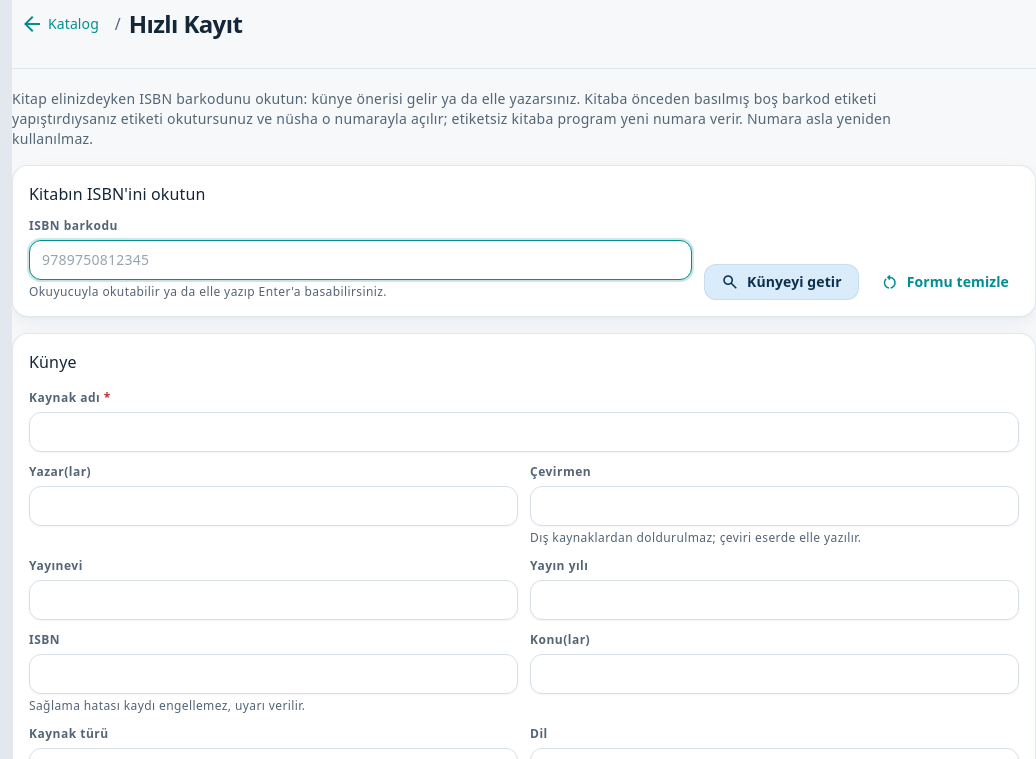
Test: Hızlı Kayıt — okutulan kodun türü › üye kartı okutulursa da kayıt başlamaz
Expected: the heading "Hızlı Kayıt" is shown, [129,8,242,40]
Type "94718263" into the field labelled "ISBN barkodu" at (360, 260), box [42,250,679,270]
Then press Enter
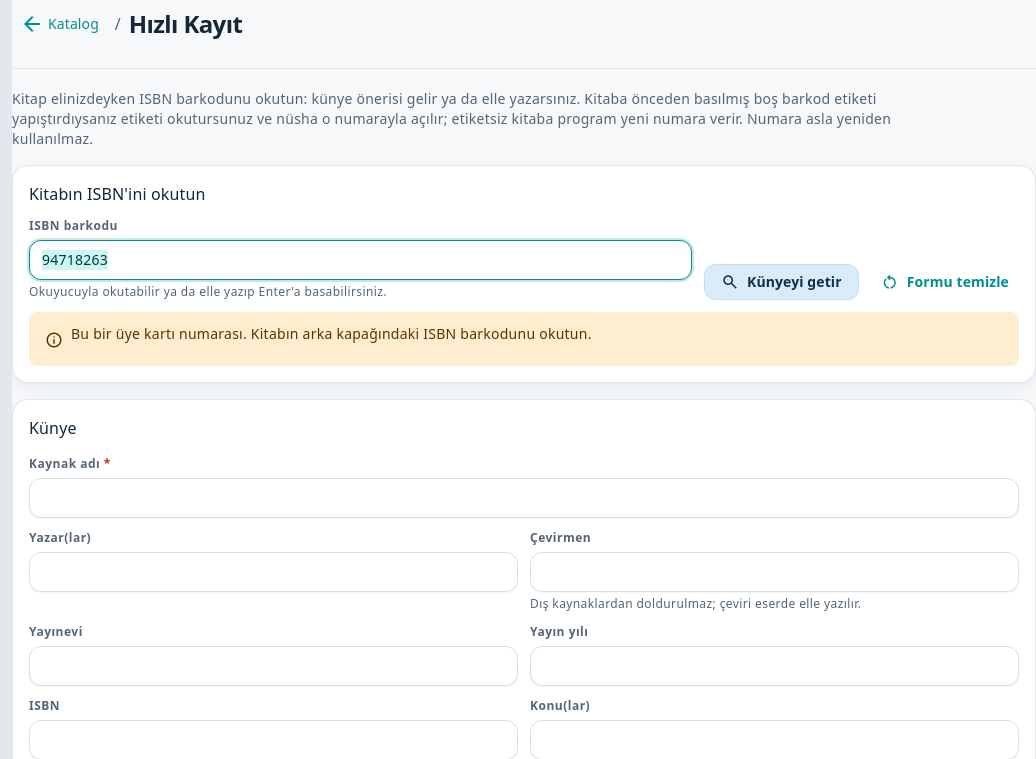
Result: the text "Bu bir üye kartı numarası. Kitabın arka kapağındaki ISBN barkodunu okutun." is shown at [29,312,1019,366]
